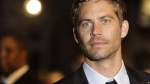male: (69, 4, 135, 66)
